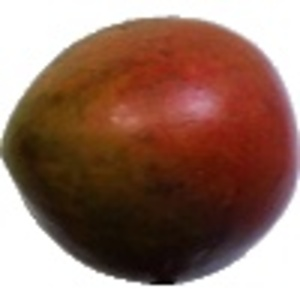manga: (1, 16, 300, 285)
